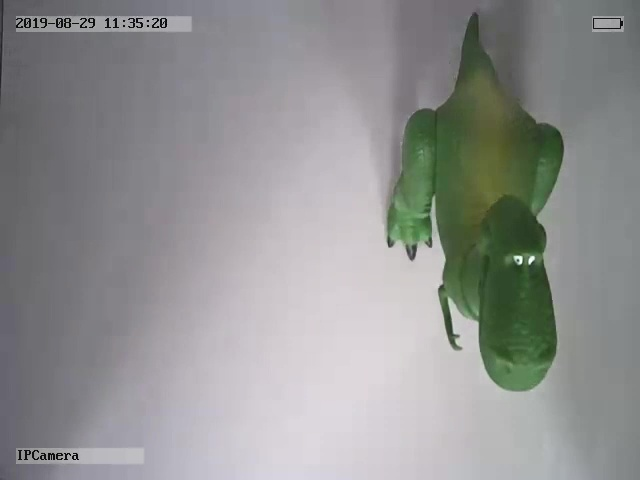rex: (385, 15, 566, 395)
